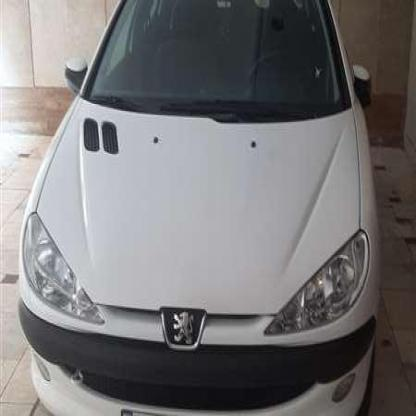Car: (12, 0, 383, 416)
